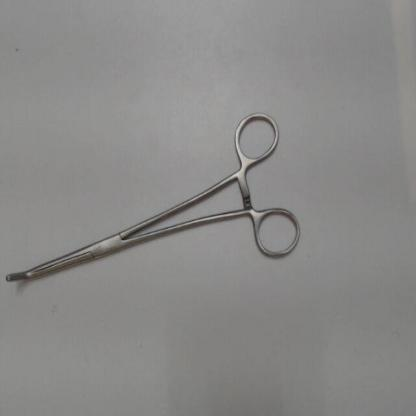Lahey Forceps: (3, 104, 305, 287)
